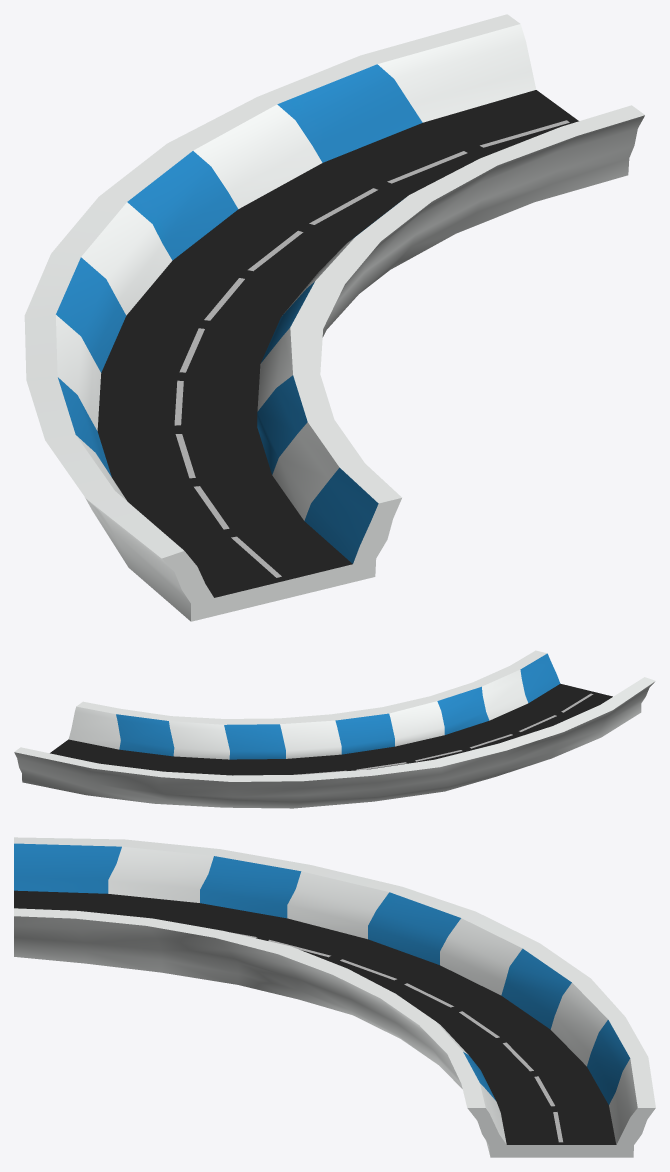
Rendered from duogn cong 2 blue.fbx.
3 renders of one model, top to bottom at view 1: azimuth 30°, elevation 25°; view 2: azimuth 150°, elevation 25°; view 3: azimuth 270°, elevation 25°, orthographic. The views are drawn at different scales.
Parts seen in each view (by area): view 1: duong_cong_2; view 2: duong_cong_2; view 3: duong_cong_2.
Boxes of the visible parts, <box> form: duong_cong_2: <box>24,14,644,621</box>; duong_cong_2: <box>14,650,655,808</box>; duong_cong_2: <box>14,837,655,1157</box>.
Size of the model in its own units: 70.52 by 6 by 70.34.
1 material, 1 textured.
